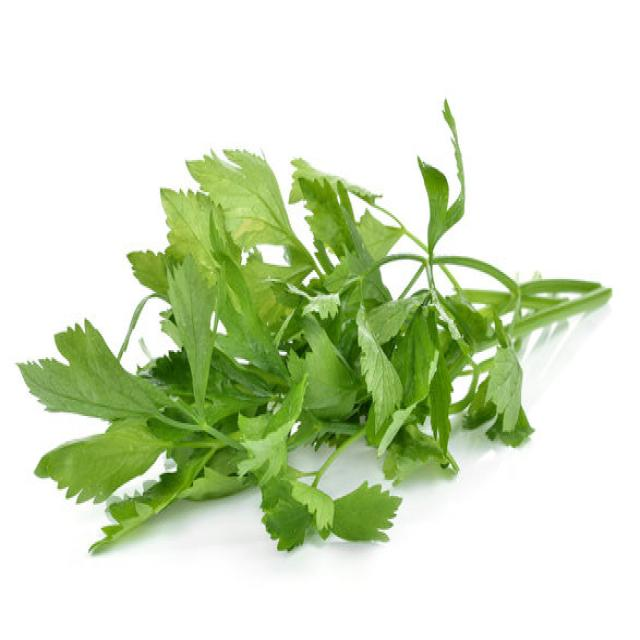Coriander Leaves: (15, 96, 612, 556)
